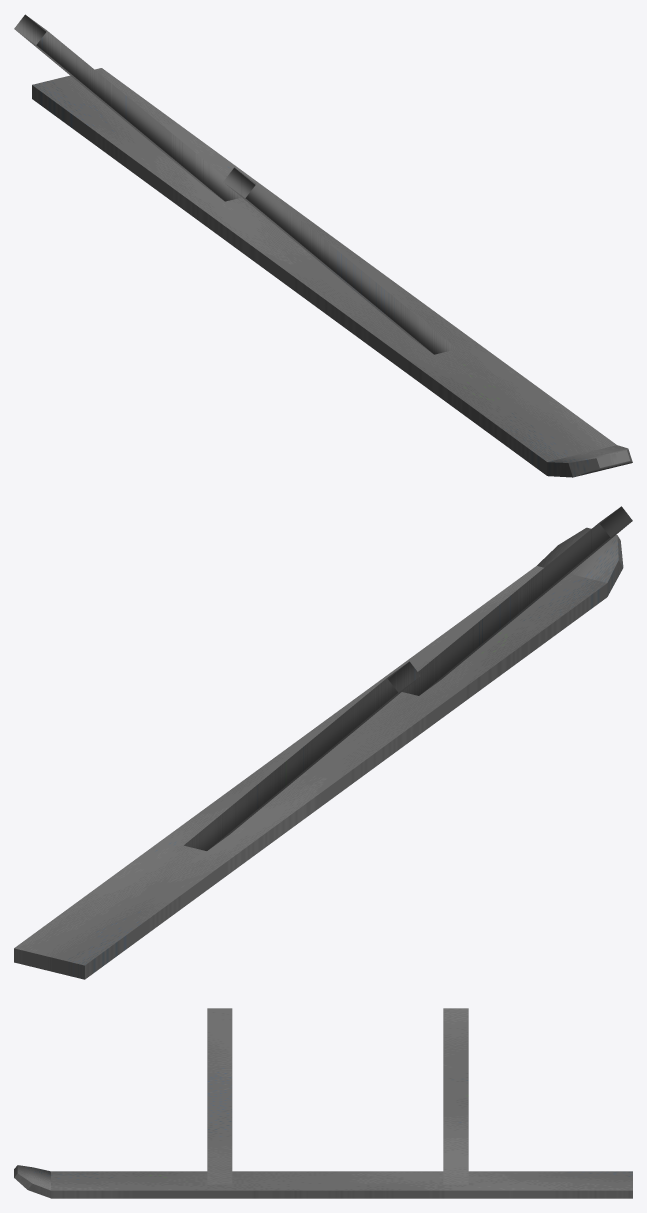
File: RightSkid.fbx
The picture shows the model from 3 angles, top to bottom: view 1: azimuth 30°, elevation 25°; view 2: azimuth 150°, elevation 25°; view 3: azimuth 270°, elevation 25°; orthographic projection. The views are drawn at different scales.
Parts seen in each view (by area): view 1: RightSkid; view 2: RightSkid; view 3: RightSkid.
Boxes of the visible parts, x1,y1,x2,y2 form: RightSkid: (14, 14, 632, 477); RightSkid: (14, 506, 632, 979); RightSkid: (14, 1008, 632, 1198).
Size of the model in its own units: 35.02 by 32.72 by 142.
